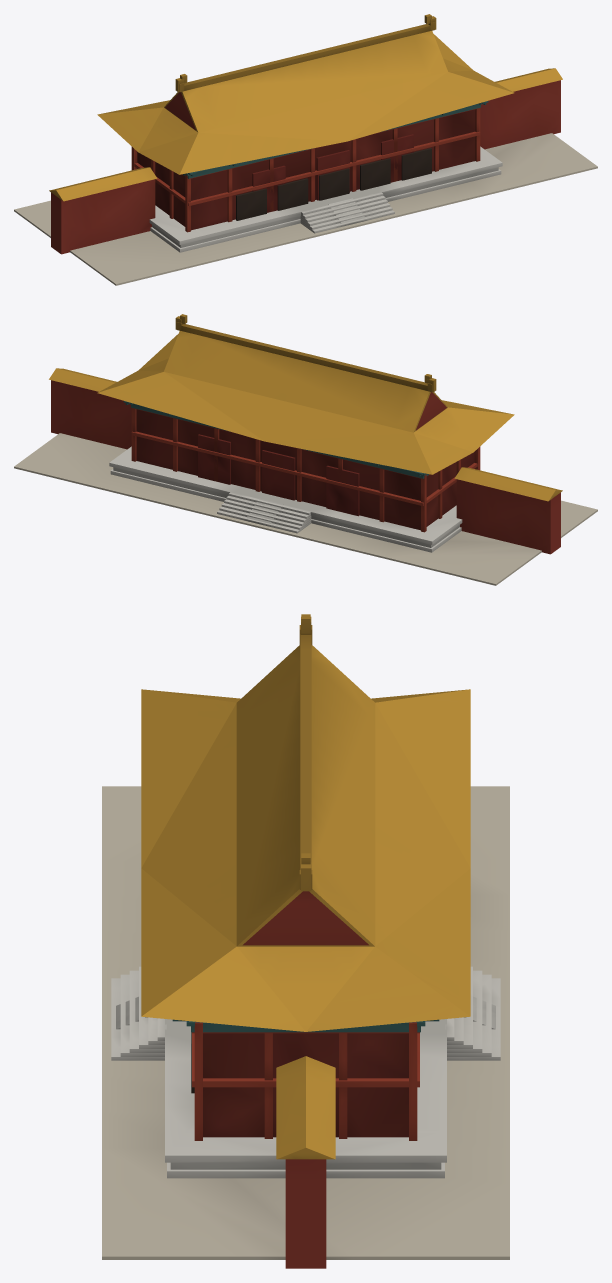
Rendered from dianmen.glb.
3 renders of one model, top to bottom at view 1: azimuth 30°, elevation 25°; view 2: azimuth 150°, elevation 25°; view 3: azimuth 270°, elevation 25°, orthographic. The views are drawn at different scales.
Parts seen in each view (by area): view 1: p0_walls, p2_roofs, p1_halls; view 2: p0_walls, p2_roofs, p1_halls; view 3: p2_roofs, p0_walls, p1_halls.
Part boxes in pixels (x1,y1,x2,y2): p0_walls: (14,68,597,285); p2_roofs: (97,14,514,174); p1_halls: (131,101,488,232); p0_walls: (14,368,597,585); p2_roofs: (97,314,514,474); p1_halls: (123,401,480,532); p2_roofs: (141,614,470,1031); p0_walls: (102,786,509,1268); p1_halls: (172,1019,439,1140).
Size of the model in its own units: 62.2 by 17.18 by 22.
